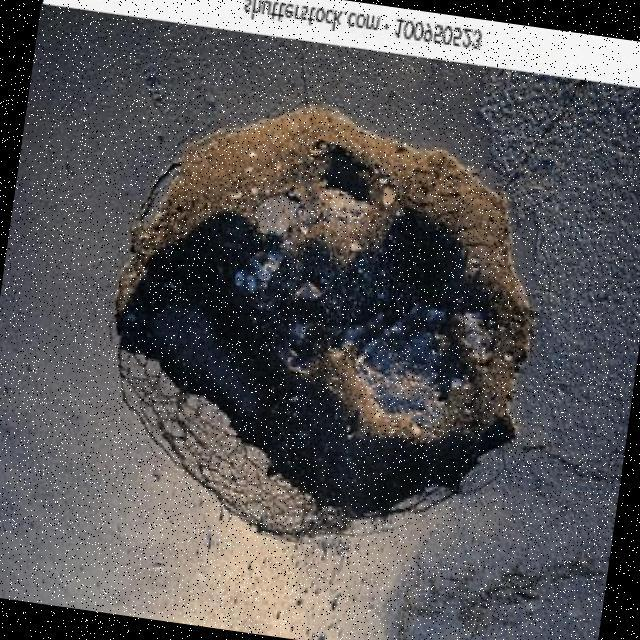Pothole: (112, 101, 537, 545)
